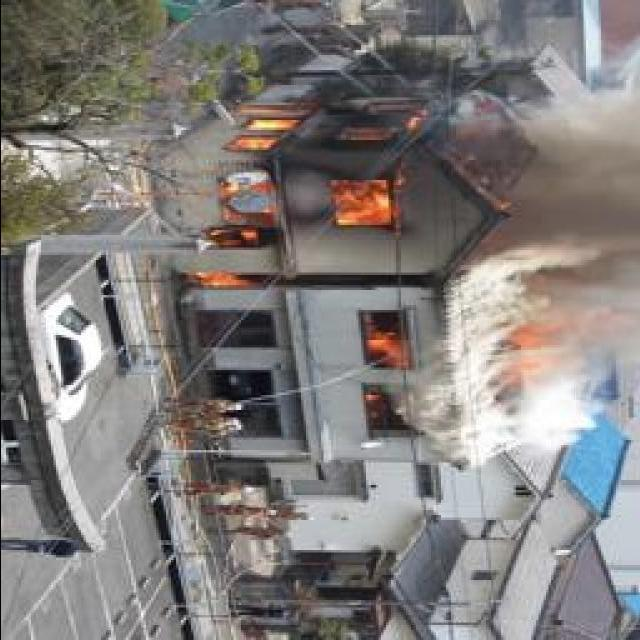Fire: (185, 81, 443, 298), (490, 304, 601, 402), (354, 312, 420, 438)
